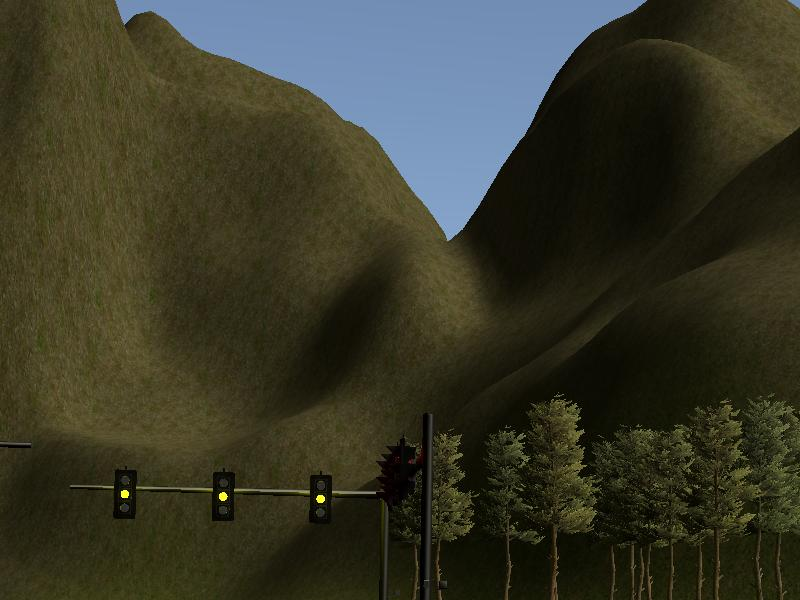Yellow: (114, 470, 137, 520), (309, 474, 332, 523), (213, 471, 233, 521)
